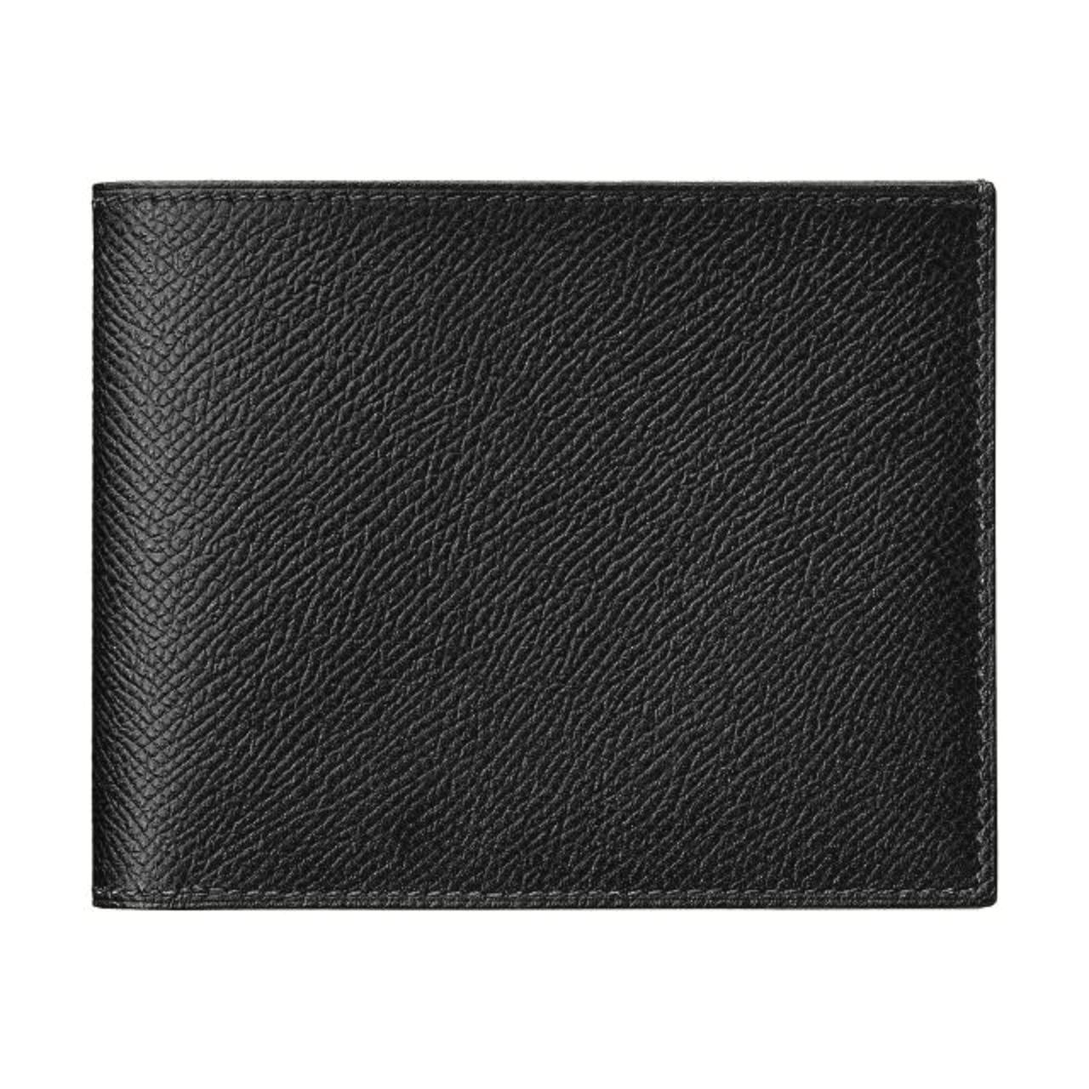wallet: (55, 160, 1025, 938)
